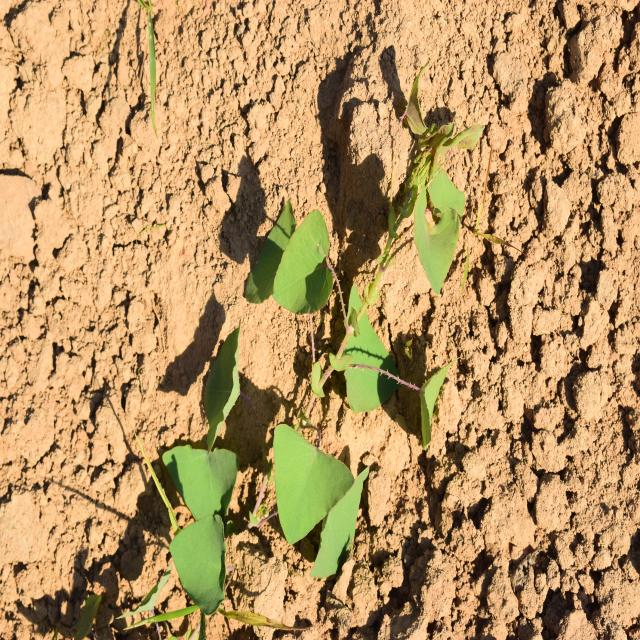Asiatic_Smartweed: (230, 73, 475, 441), (148, 306, 256, 628), (260, 392, 386, 569)
